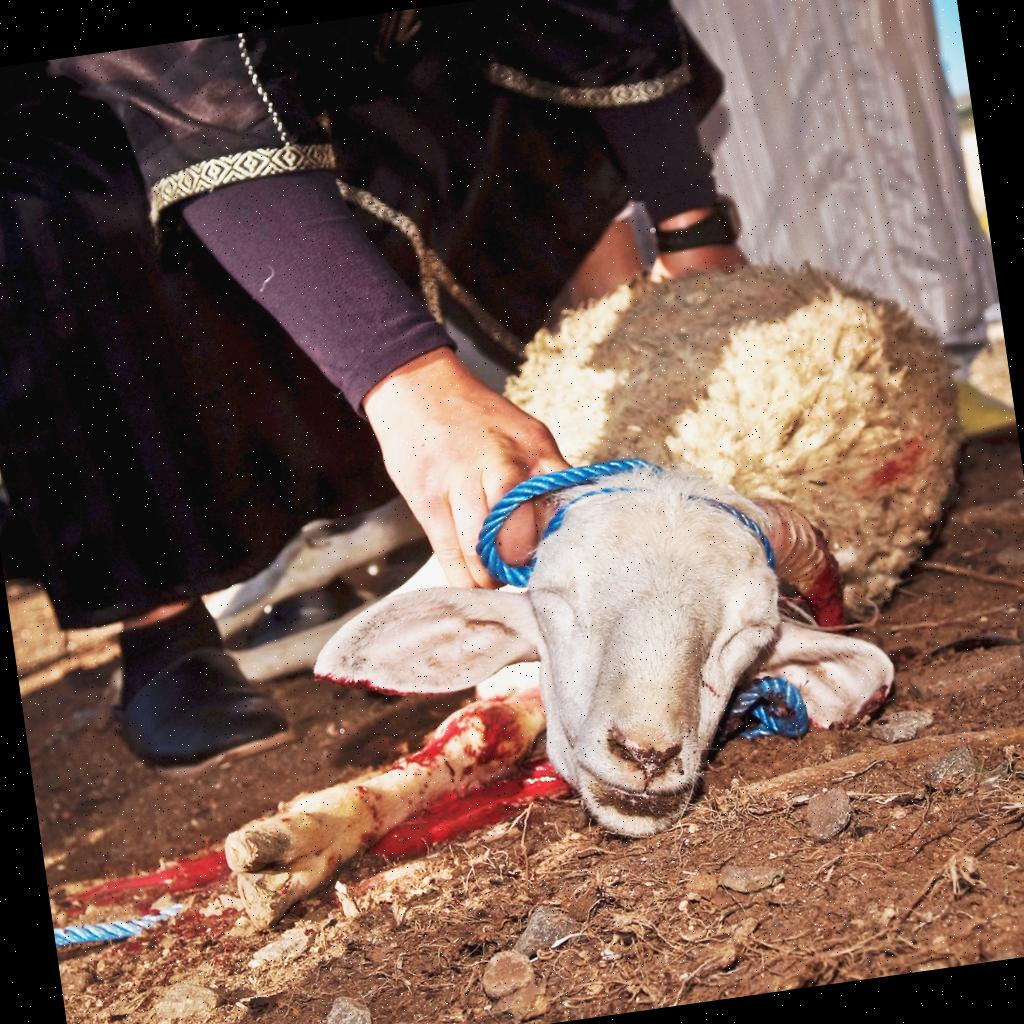Sheep: (62, 230, 1020, 950)
